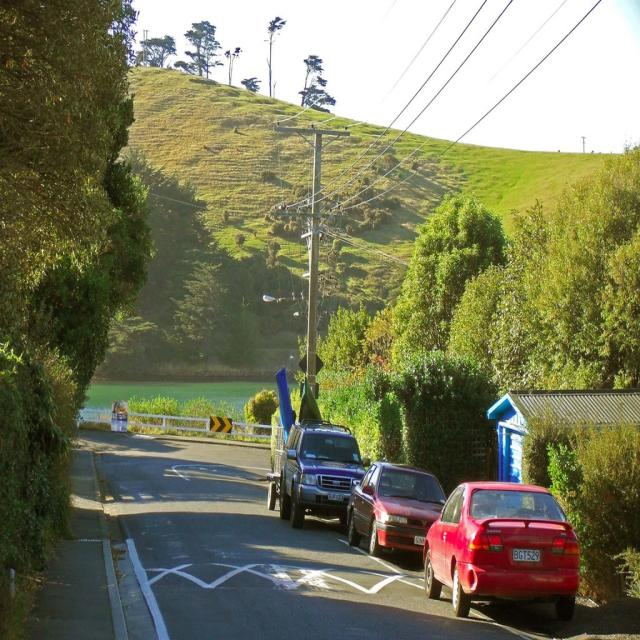car: (426, 471, 589, 625)
